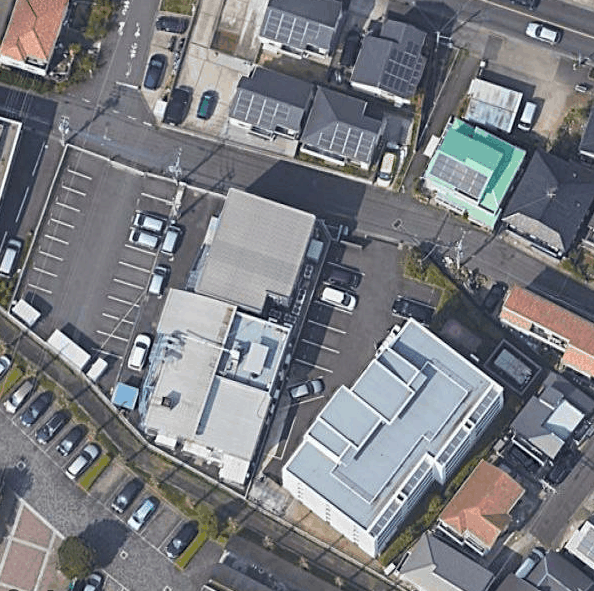parkinglot: (1, 146, 202, 398)
rooftop: (273, 304, 504, 548)
solarpanel_slope: (415, 138, 500, 209), (365, 26, 437, 107), (253, 0, 335, 64), (227, 78, 305, 139), (313, 108, 387, 172)
